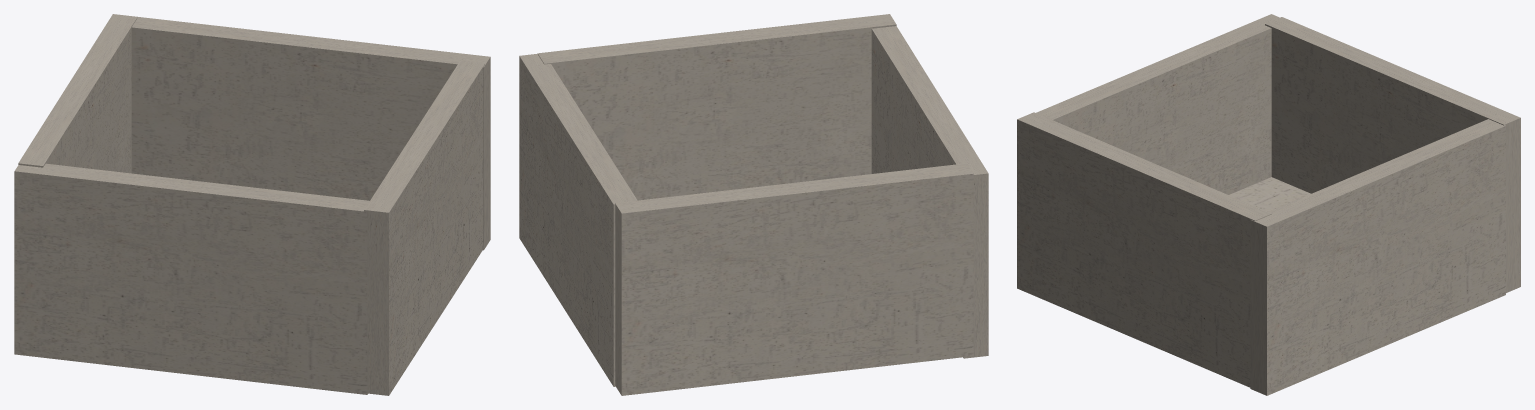
File: room_rock.glb
The picture shows the model from 3 angles, left to right: view 1: azimuth 30°, elevation 25°; view 2: azimuth 150°, elevation 25°; view 3: azimuth 270°, elevation 25°; orthographic projection. The views are drawn at different scales.
Parts seen in each view (by area): view 1: SM_FrontWall, SM_RightWall, SM_BackWall, SM_LeftWall; view 2: SM_LeftWall, SM_BackWall, SM_RightWall, SM_FrontWall; view 3: SM_RightWall, SM_BackWall, SM_LeftWall, SM_FrontWall, SM_Floor.
Boxes of the visible parts, box(x1,y1,x2,y2) form: SM_FrontWall: box(14, 163, 369, 394); SM_RightWall: box(131, 17, 490, 250); SM_BackWall: box(364, 60, 484, 395); SM_LeftWall: box(18, 14, 137, 173); SM_LeftWall: box(615, 163, 973, 395); SM_BackWall: box(537, 14, 896, 200); SM_RightWall: box(519, 53, 637, 386); SM_FrontWall: box(871, 26, 988, 358); SM_RightWall: box(1250, 119, 1505, 395); SM_BackWall: box(1017, 112, 1271, 387); SM_LeftWall: box(1265, 17, 1520, 292); SM_FrontWall: box(1036, 14, 1279, 194); SM_Floor: box(1229, 177, 1310, 211).
Size of the model in its own units: 62.5 by 23.29 by 62.33.
Materials: 1 (1 with a texture image).
